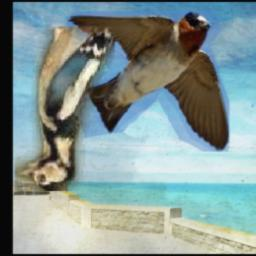Swallow: (67, 12, 230, 153)
Woodpecker: (16, 28, 116, 192)
